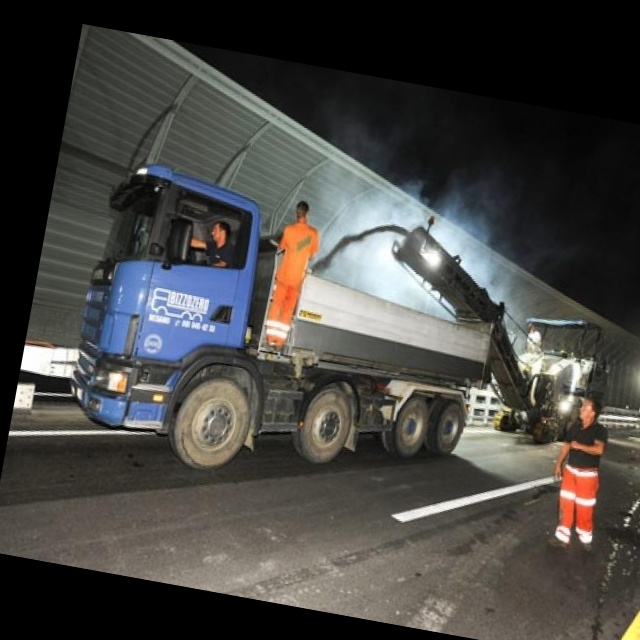Sin_Casco_Mascarrilla: (577, 396, 603, 423), (209, 219, 233, 246), (294, 198, 311, 224)
